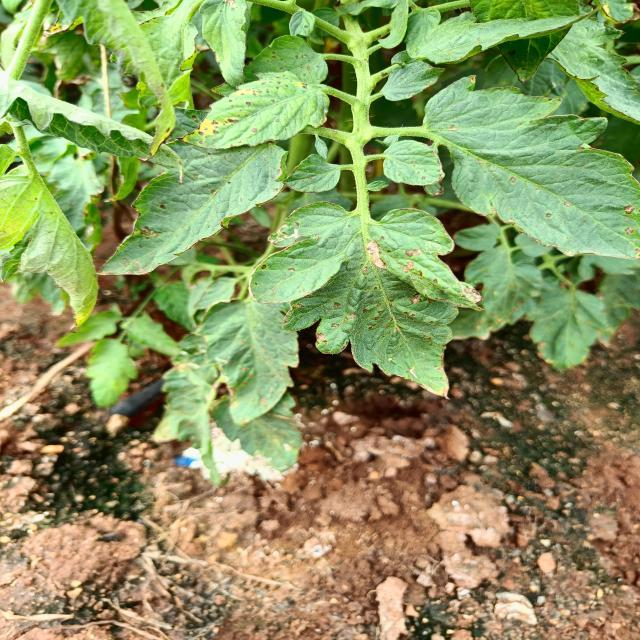Tomato mosaic virus leaf: (423, 73, 640, 261), (248, 243, 486, 402), (91, 151, 285, 278), (172, 71, 332, 151), (240, 34, 330, 83)
